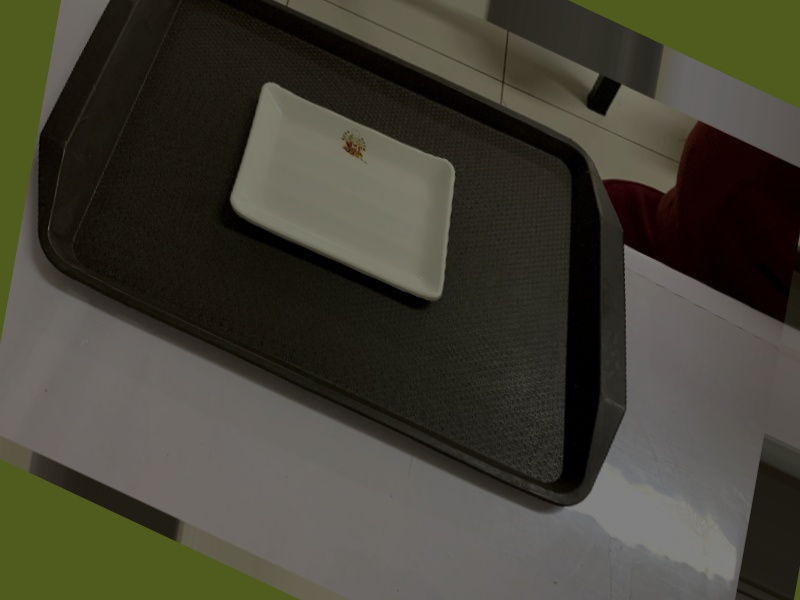dish4: (219, 59, 474, 323)
